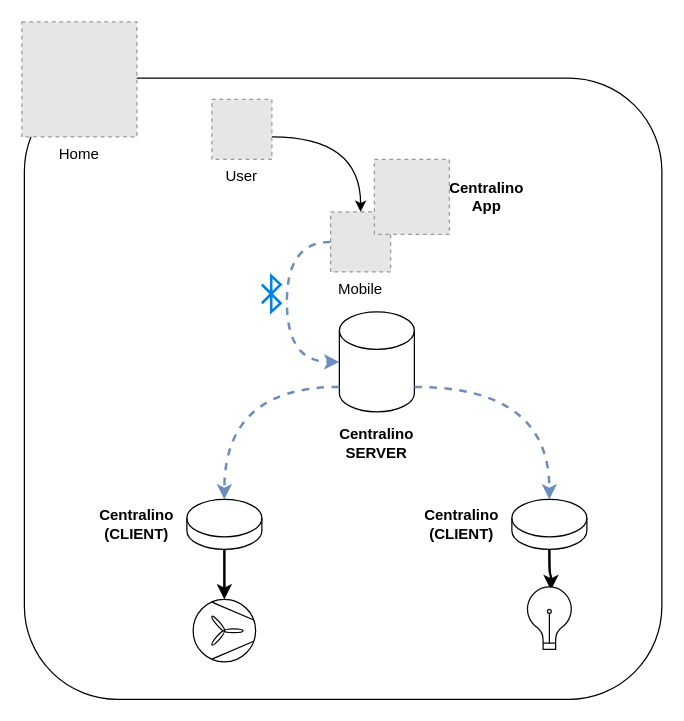
Image size: 684x721. Some labels were removed from this diagram. Grey dashed boxes stand in for pictures. The centre of each missing label's shape, as x and y in pixels:
Fan: [224,630]
Light: [548,617]
